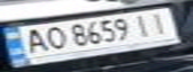5: (97, 17, 118, 44)
6: (84, 19, 103, 46)
8: (66, 20, 87, 47)
9: (112, 16, 136, 42)
A: (15, 26, 51, 55)
I: (145, 10, 175, 36), (130, 11, 157, 37)
O: (39, 24, 69, 52)
